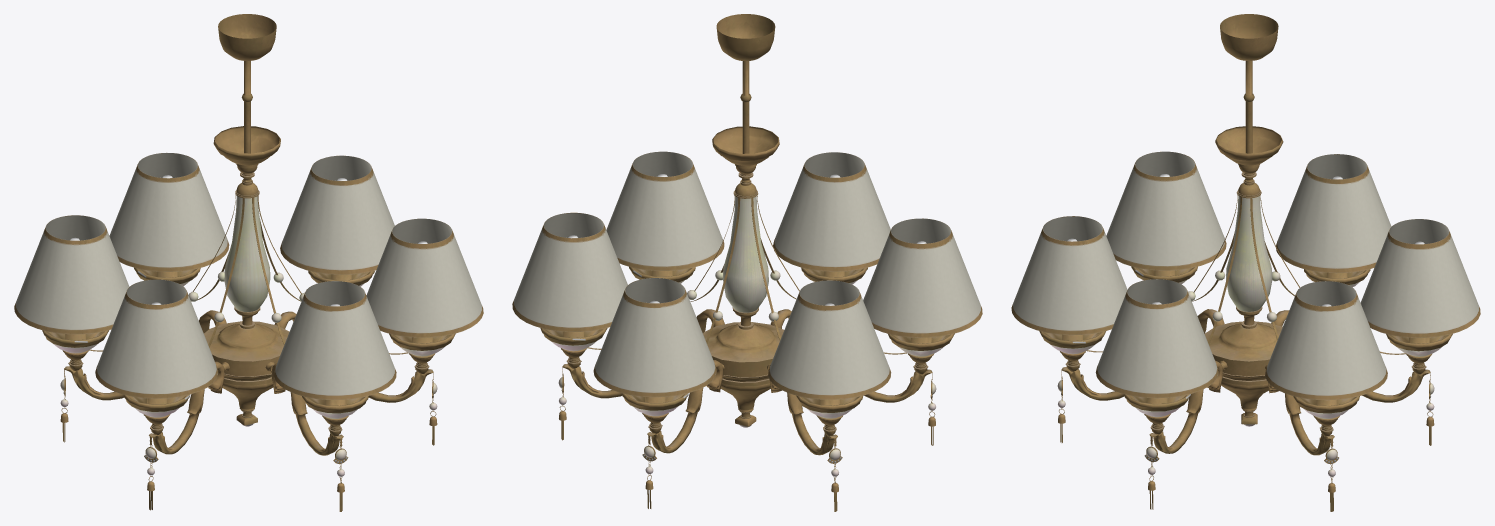
3 renders of one model, left to right at view 1: azimuth 30°, elevation 25°; view 2: azimuth 150°, elevation 25°; view 3: azimuth 270°, elevation 25°, orthographic.
Visible parts, largest first — view 1: lamp_19; view 2: lamp_19; view 3: lamp_19.
Part boxes in pixels (x1,y1,x2,y2): lamp_19: (14, 14, 483, 511); lamp_19: (512, 14, 982, 511); lamp_19: (1011, 14, 1480, 511).
Bounding box in the file's own units: 0.7465 × 0.7983 × 0.8155.
Materials: 2 (1 with a texture image).
